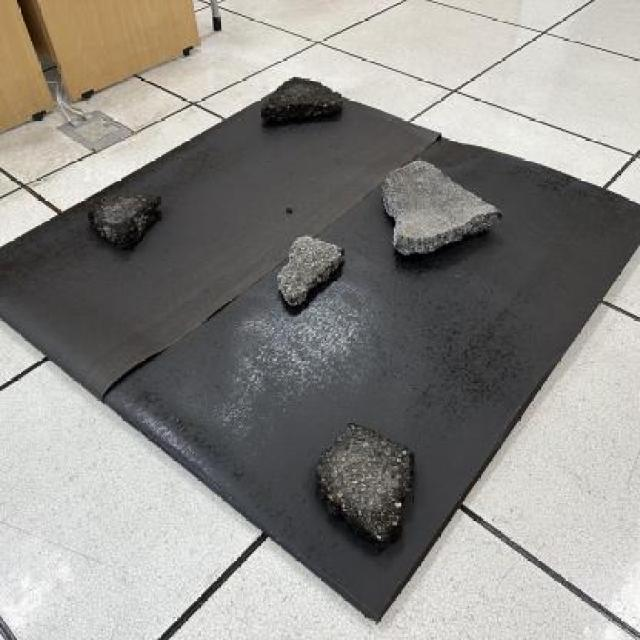Road Debris: (318, 423, 414, 542), (382, 160, 484, 211), (282, 235, 338, 303), (269, 76, 337, 109), (93, 193, 156, 227)
